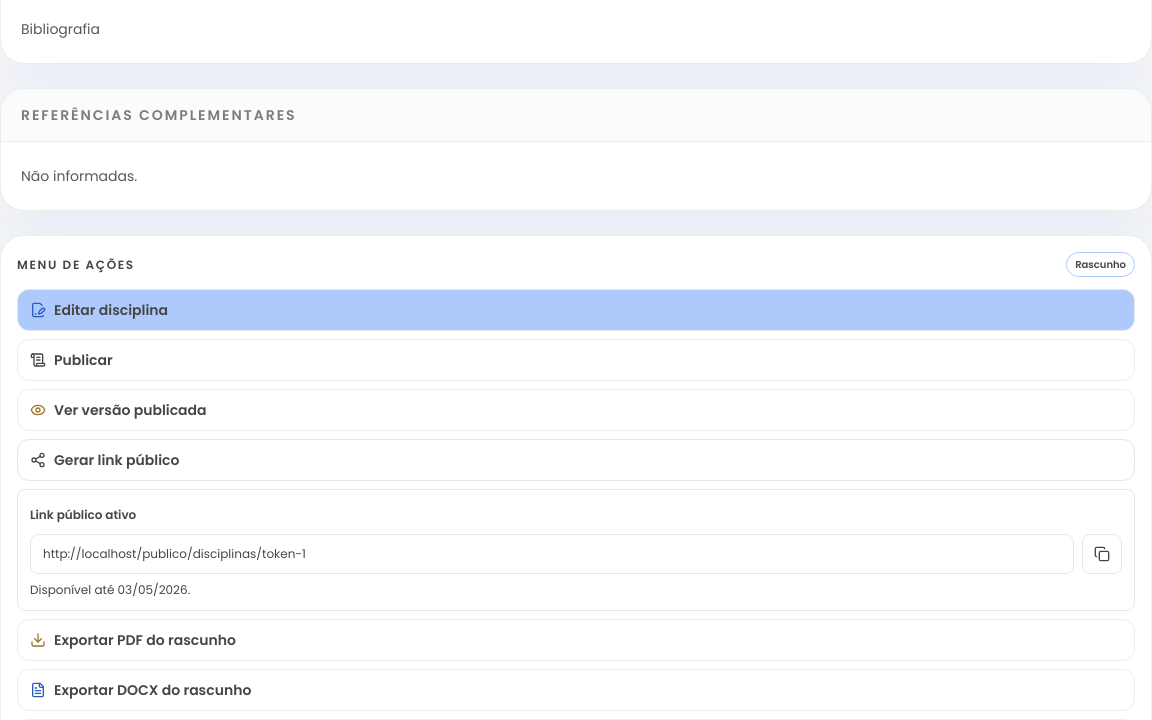
DisciplineDetailsPage › deve validar campos obrigatórios ao clicar em Publicar, antes da confirmação
(page scrolled)
Click the button "Publicar". click: coordinates (83, 360)
box: [17,339,1135,381]
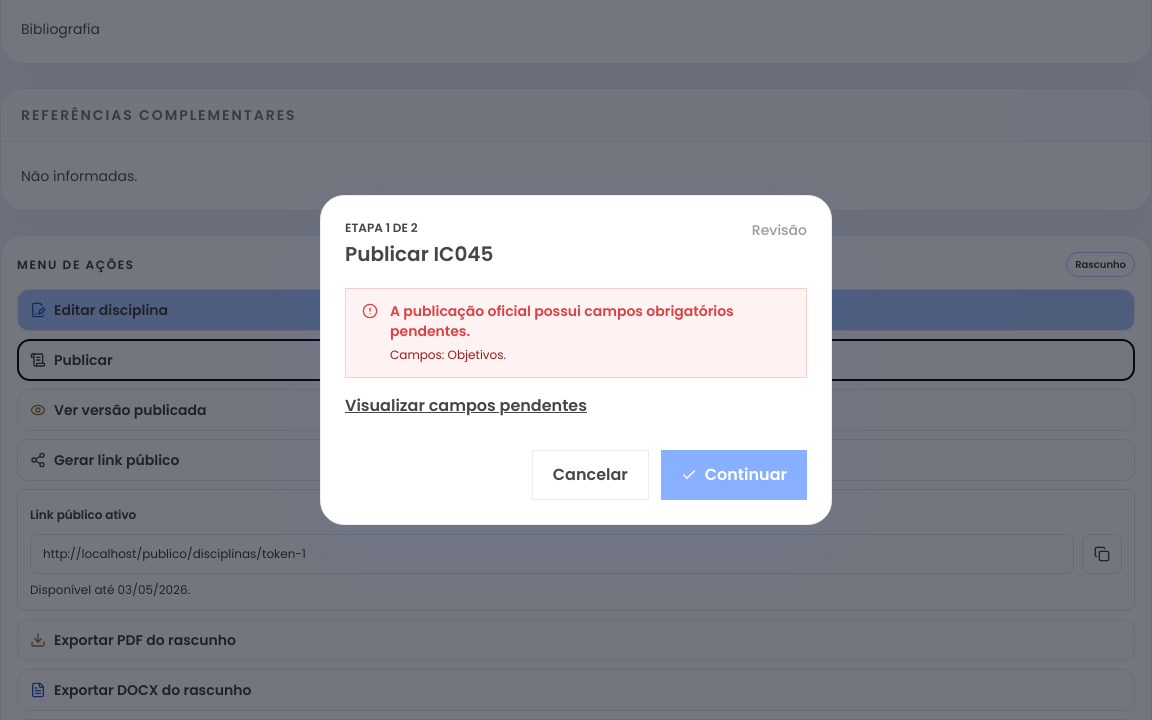
expect the text "A publicação oficial possui campos obrigatórios pendentes." is shown: met, box [390,301,790,341]
expect the button "Continuar" is disabled: met, box [661,450,807,500]
